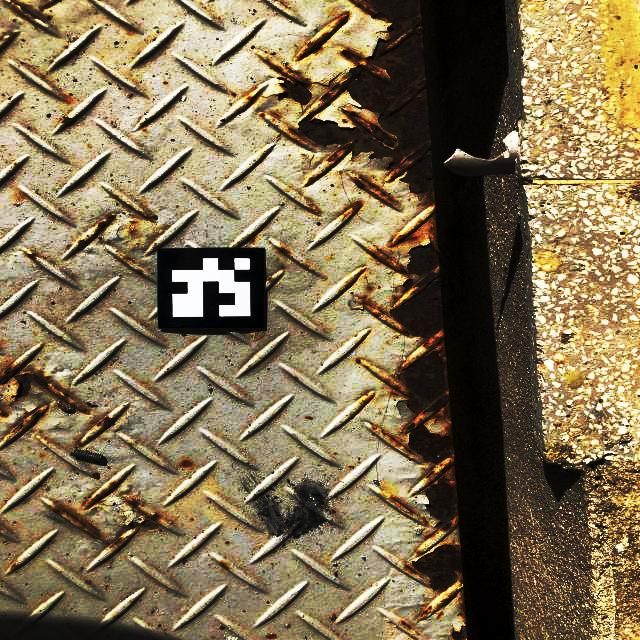Corrosion: (357, 208, 460, 541), (289, 0, 435, 208), (0, 361, 90, 416), (259, 59, 343, 112), (293, 12, 351, 62), (412, 539, 464, 592), (48, 502, 103, 539), (350, 172, 402, 208), (118, 493, 161, 531), (9, 404, 49, 436), (83, 481, 120, 512), (449, 591, 468, 640), (9, 0, 47, 24), (92, 213, 116, 237), (337, 200, 363, 220), (90, 413, 117, 432), (240, 87, 260, 109), (391, 497, 415, 514), (440, 589, 459, 608), (237, 231, 258, 248), (114, 195, 134, 209), (404, 564, 422, 578), (77, 233, 91, 248), (418, 605, 433, 619), (107, 536, 124, 548), (361, 391, 374, 406), (307, 202, 321, 215), (120, 254, 136, 264), (39, 0, 52, 12), (138, 209, 153, 219), (128, 219, 137, 235), (278, 245, 291, 256), (25, 250, 39, 260), (8, 560, 20, 571), (275, 0, 289, 9), (60, 117, 75, 125), (399, 620, 411, 630), (181, 458, 192, 468), (127, 25, 137, 35), (0, 407, 9, 418), (220, 562, 230, 571), (62, 95, 73, 103), (406, 632, 418, 639), (138, 123, 147, 132), (270, 111, 281, 118), (76, 439, 85, 447), (39, 437, 51, 443), (437, 611, 444, 619), (266, 634, 277, 639), (230, 90, 237, 97), (356, 358, 363, 364), (135, 270, 143, 275), (416, 549, 422, 555), (266, 276, 273, 281), (8, 32, 16, 36), (423, 518, 428, 524), (259, 112, 266, 116), (162, 81, 168, 85), (0, 36, 3, 42), (412, 492, 415, 496), (66, 46, 69, 49)
